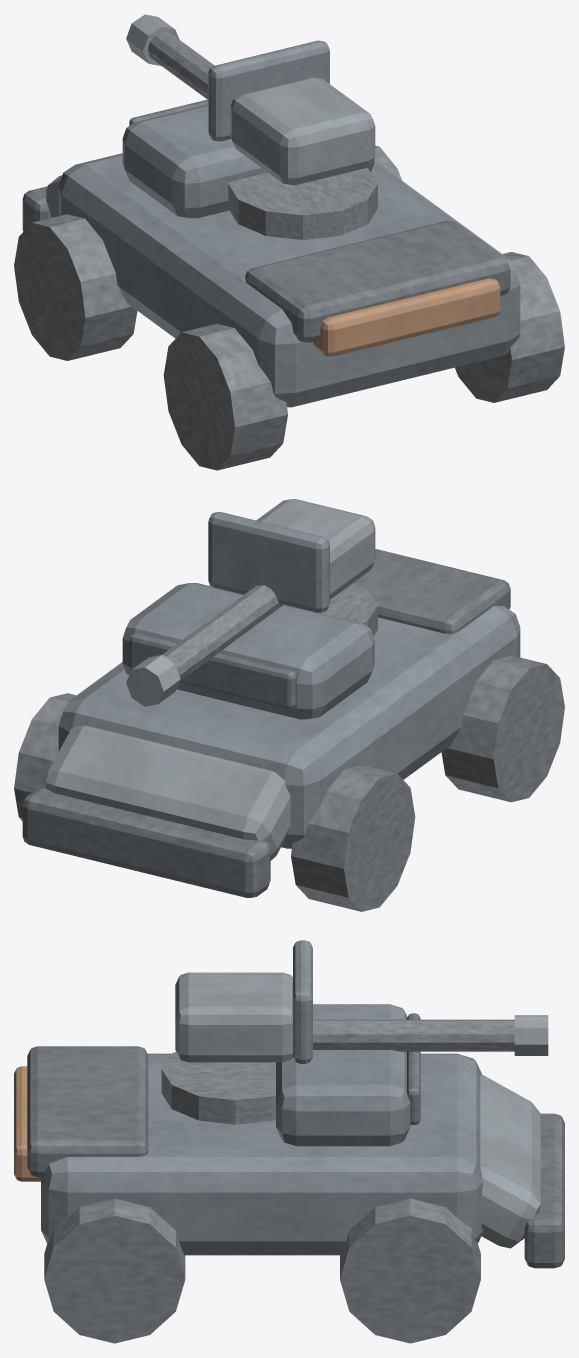
Rendered from dir_vanguard_car.glb.
3 renders of one model, top to bottom at view 1: azimuth 30°, elevation 25°; view 2: azimuth 150°, elevation 25°; view 3: azimuth 270°, elevation 25°, orthographic.
Visible parts, largest first — view 1: dir_vanguard_car, turret; view 2: dir_vanguard_car, turret; view 3: dir_vanguard_car, turret.
Part boxes in pixels (x1,y1,x2,y2): dir_vanguard_car: (14, 99, 564, 470); turret: (126, 14, 377, 239); dir_vanguard_car: (14, 549, 564, 911); turret: (126, 499, 377, 706); dir_vanguard_car: (14, 1004, 564, 1343); turret: (161, 940, 548, 1124).
Bounding box in the file's own units: 0.56 × 0.49 × 0.82.
2 materials, 2 textured.
